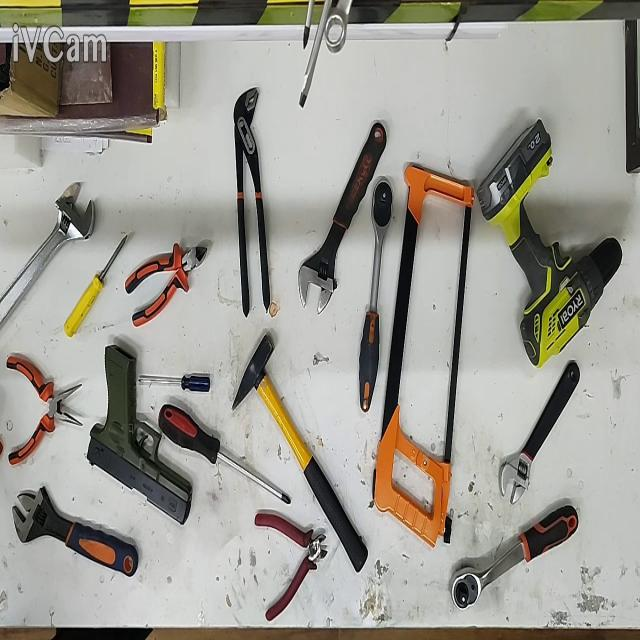Screwdriver: (159, 404, 291, 506), (64, 236, 128, 337), (139, 373, 211, 391)
